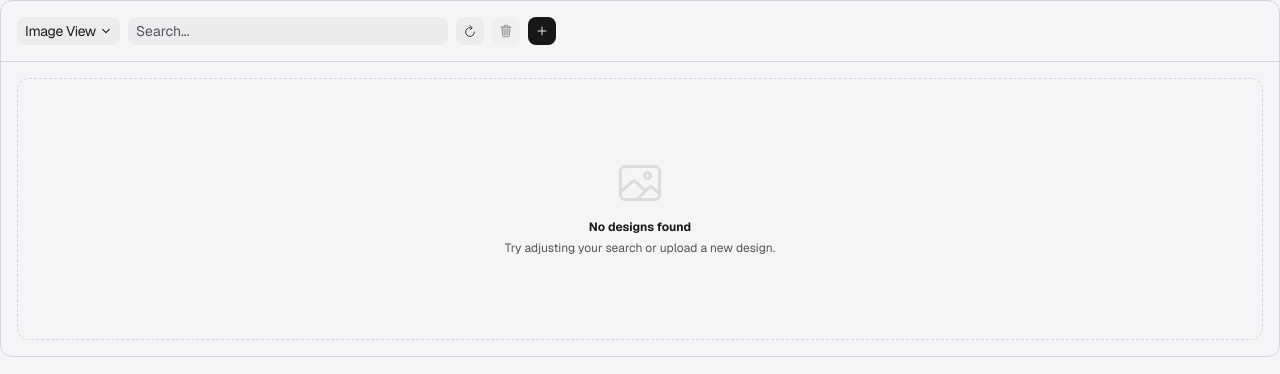
Test: DesignRepository — view in the URL › choosing the other view makes it current
Click the button with aria-label "Design view" at (68, 31), box [17, 17, 120, 45]
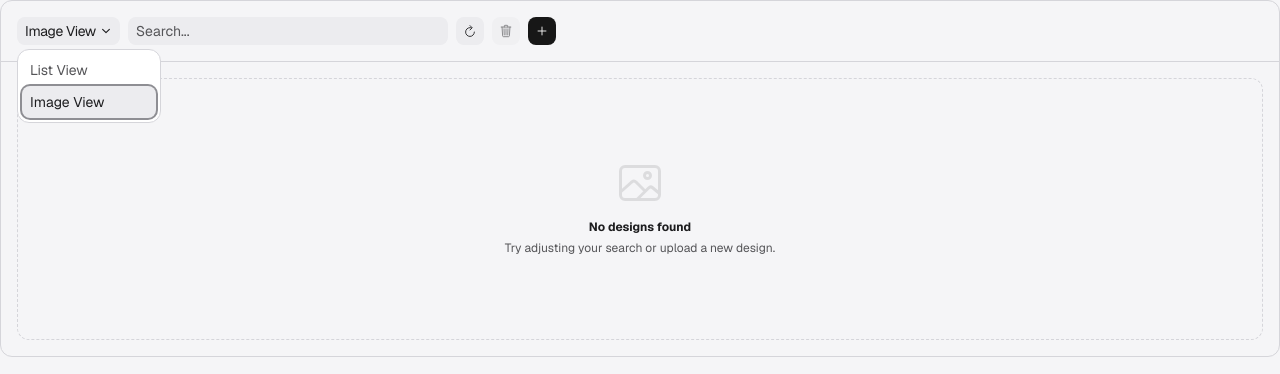
Click the menu item "List View" at (89, 70), box [22, 54, 156, 86]
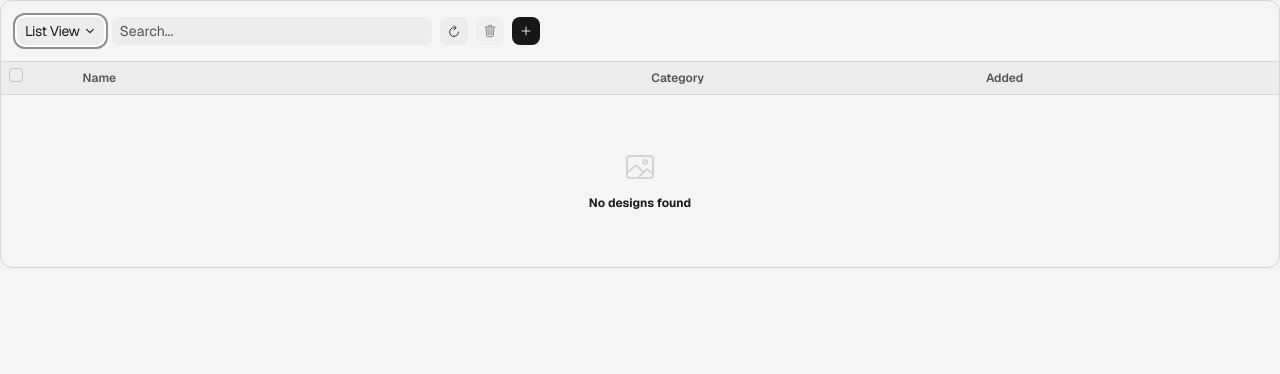
expect the button with aria-label "Design view" reads "List View": met, box [17, 17, 104, 45]
